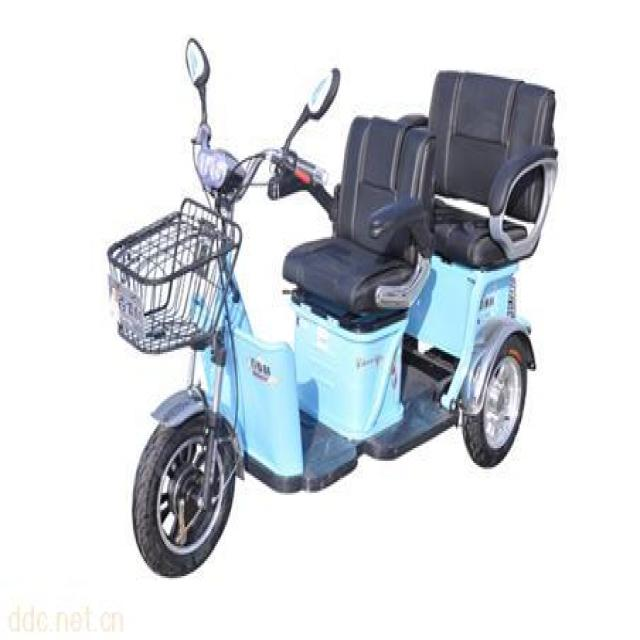tricycle: (102, 36, 558, 576)
